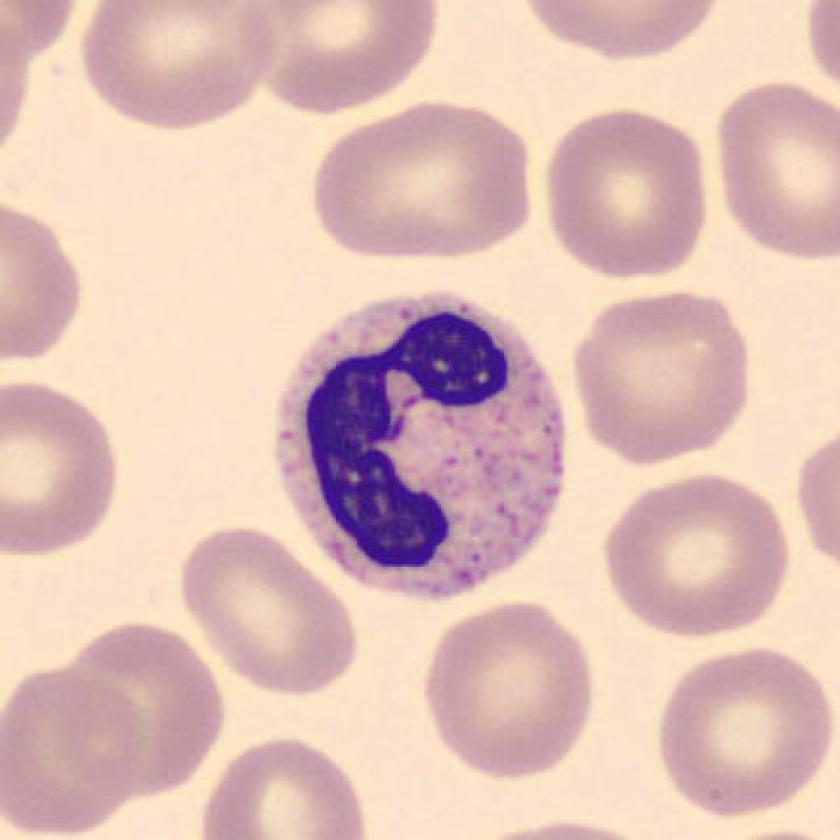neutrophil: (276, 297, 566, 596)
